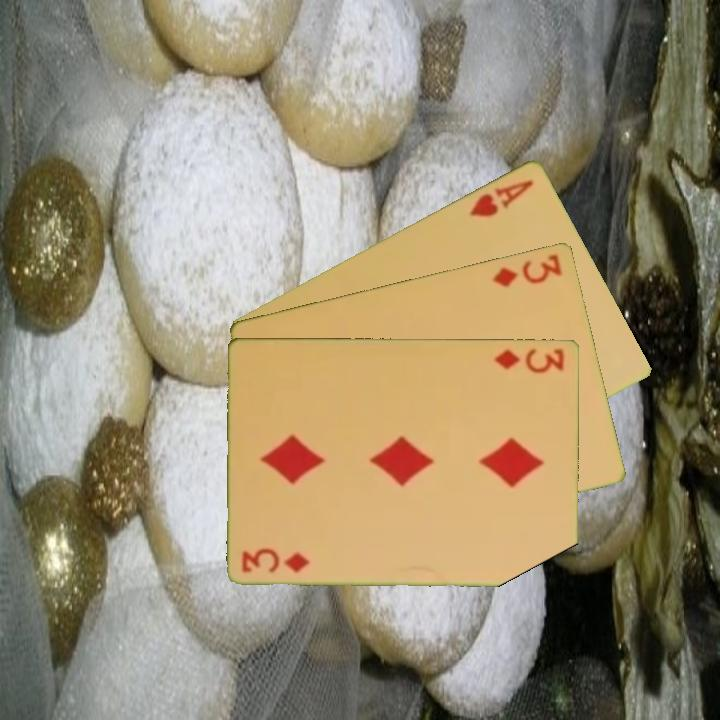3d: (489, 250, 566, 290), (491, 345, 568, 376), (239, 546, 314, 575)
Ah: (466, 175, 537, 220)
